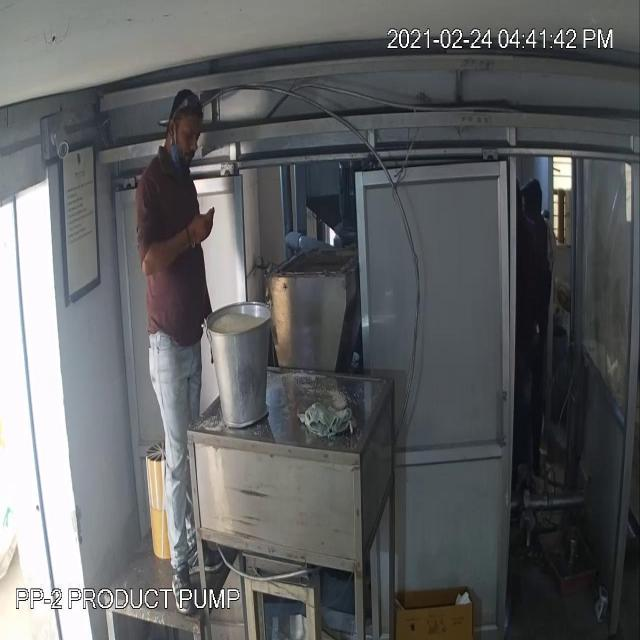no-helmet: (162, 82, 207, 146)
